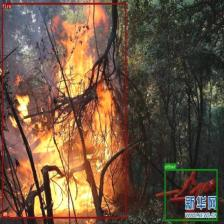fire: (2, 3, 126, 218)
